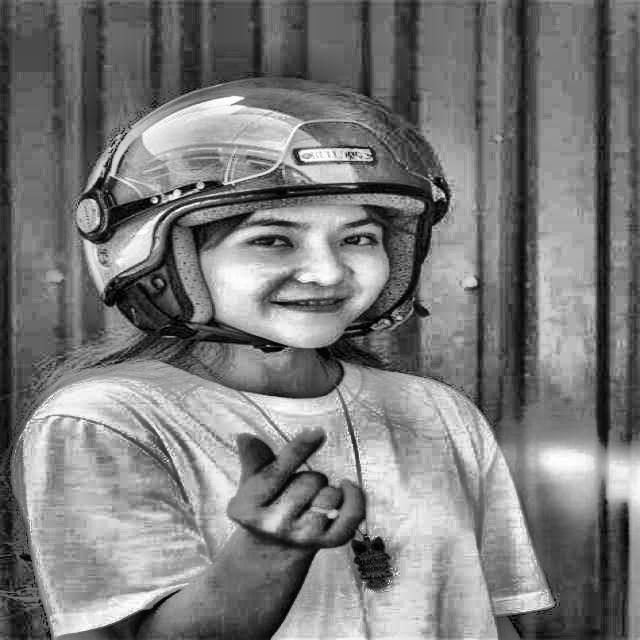Helmet: (62, 65, 470, 365)
